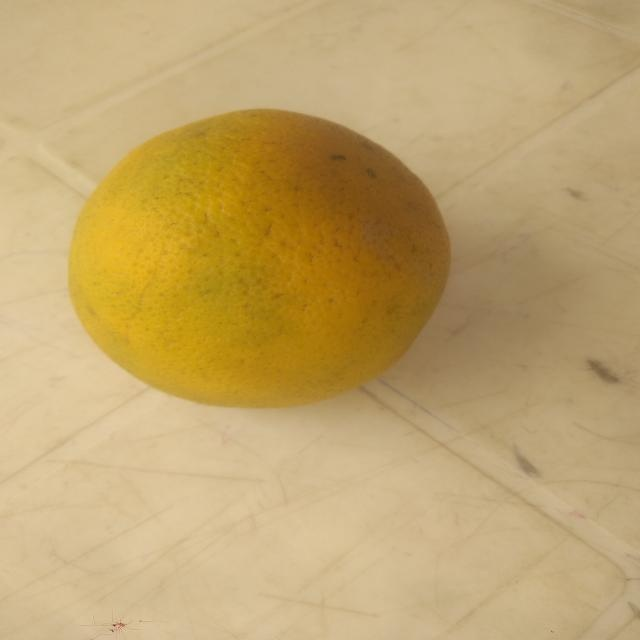agrume: (53, 96, 451, 444)
